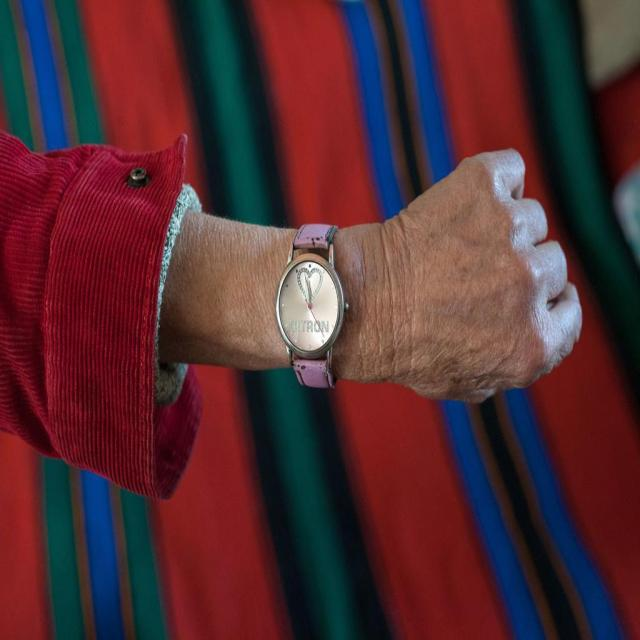Wrist watch: (277, 224, 351, 390)
